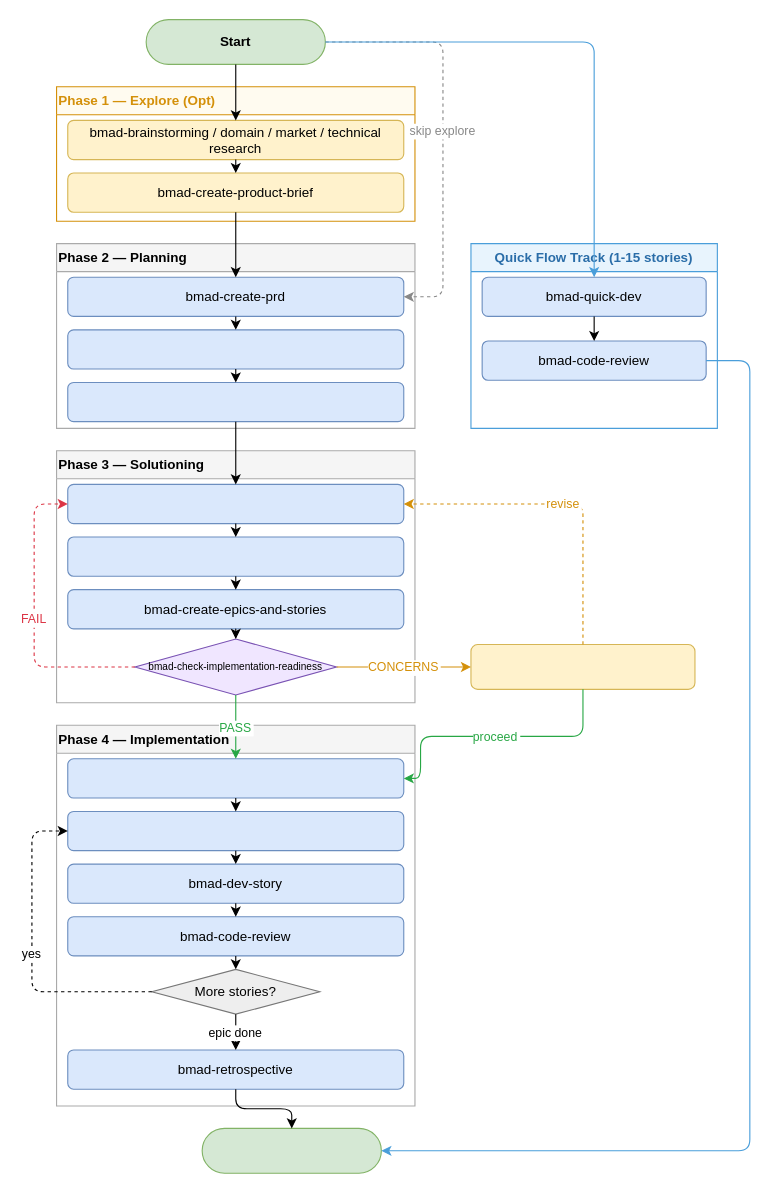
The diagram is 778 pixels wide and 1193 high, and some of its shapes have lost their labels. The shapes that lost their labels are listed below. From the top down, each one's centre as x and y in pixels, then its label:
pixel 235 349: bmad-validate-prd / bmad-edit-prd
pixel 235 401: bmad-create-ux-design
pixel 235 503: bmad-create-architecture
pixel 235 556: bmad-generate-project-context
pixel 582 666: Review flagged items
pixel 235 778: bmad-sprint-planning
pixel 235 830: bmad-create-story
pixel 291 1150: Done
